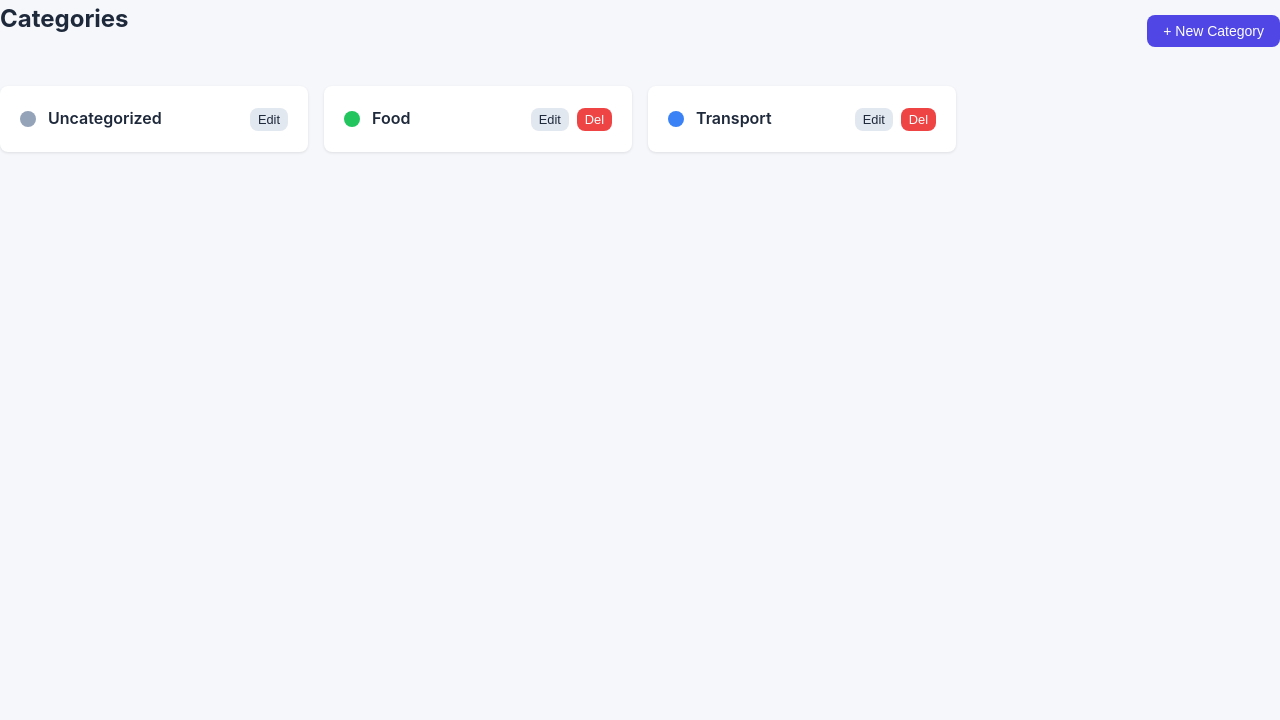
Test: CategoriesPage › opens edit modal for a category
This screenshot has width=1280, height=720.
expect the text "Food" is shown: met, box top-left (372, 108), bottom-right (410, 128)
Click the button "Edit" next to "Uncategorized" at x=269, y=119, box top-left (250, 108), bottom-right (288, 131)
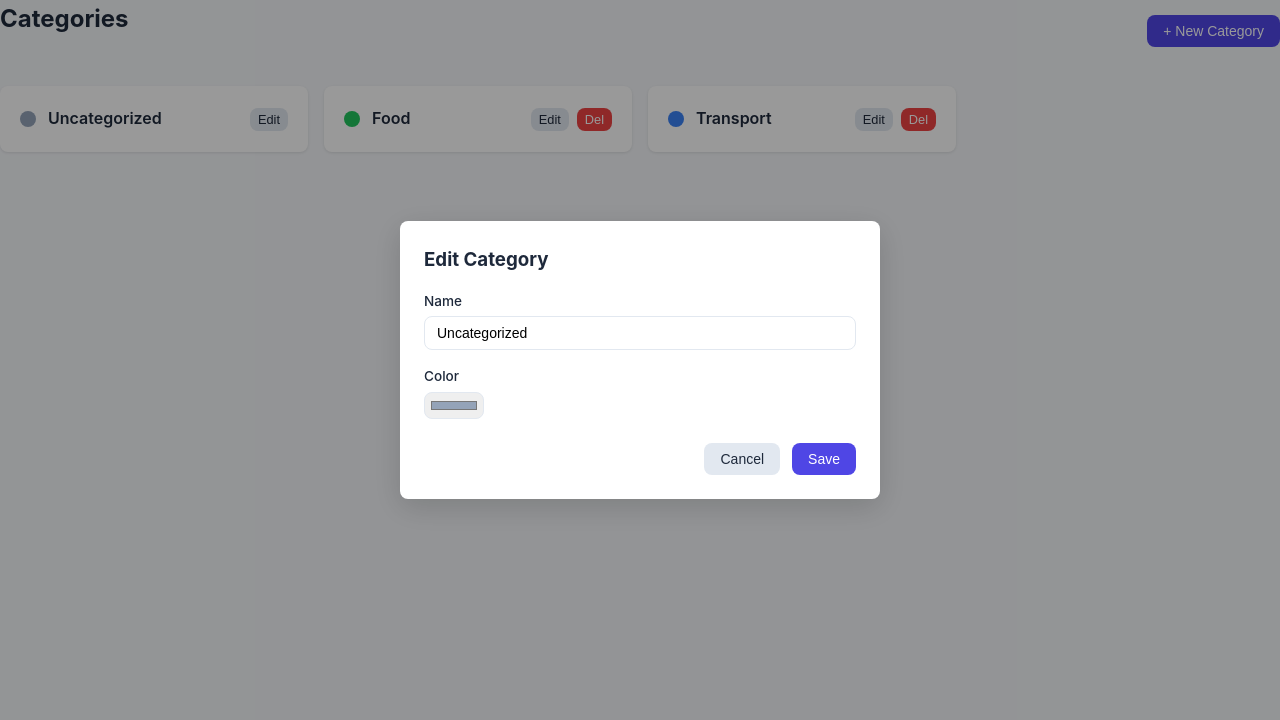
expect the heading "Edit Category" is shown: met, box top-left (424, 248), bottom-right (548, 271)
expect the button "Save" is shown: met, box top-left (792, 443), bottom-right (856, 475)
